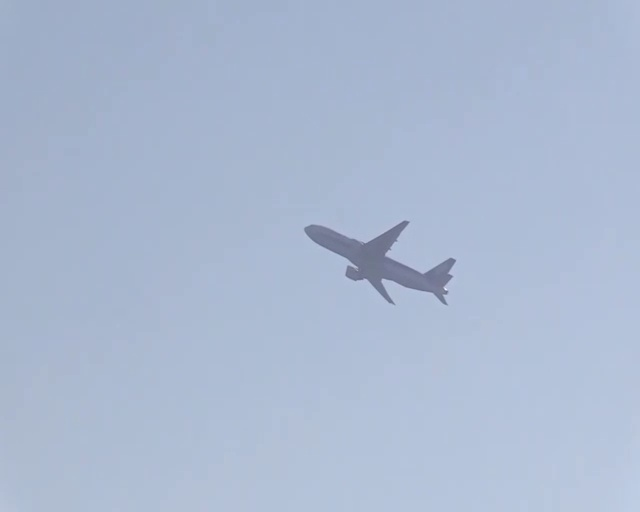AIRPLANE: (304, 219, 455, 306)
